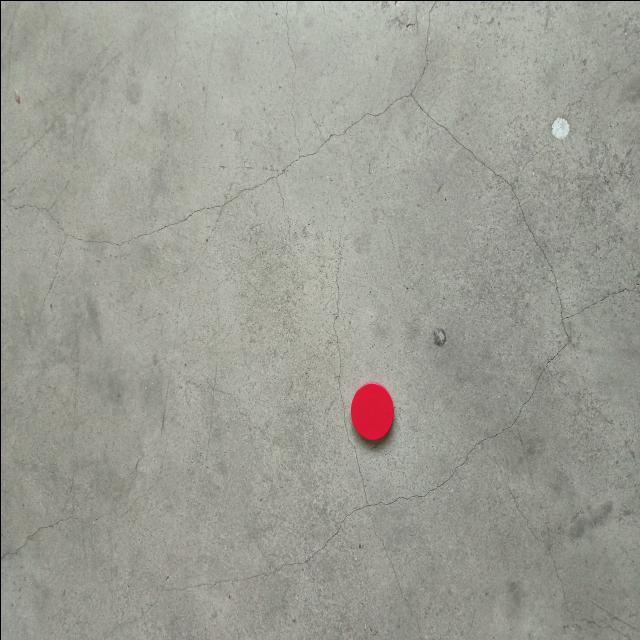chip: (344, 378, 398, 457)
